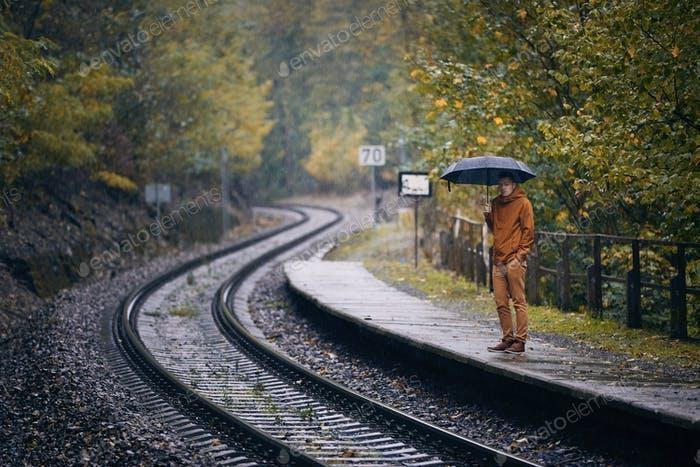Umbrella: (435, 153, 540, 211)
